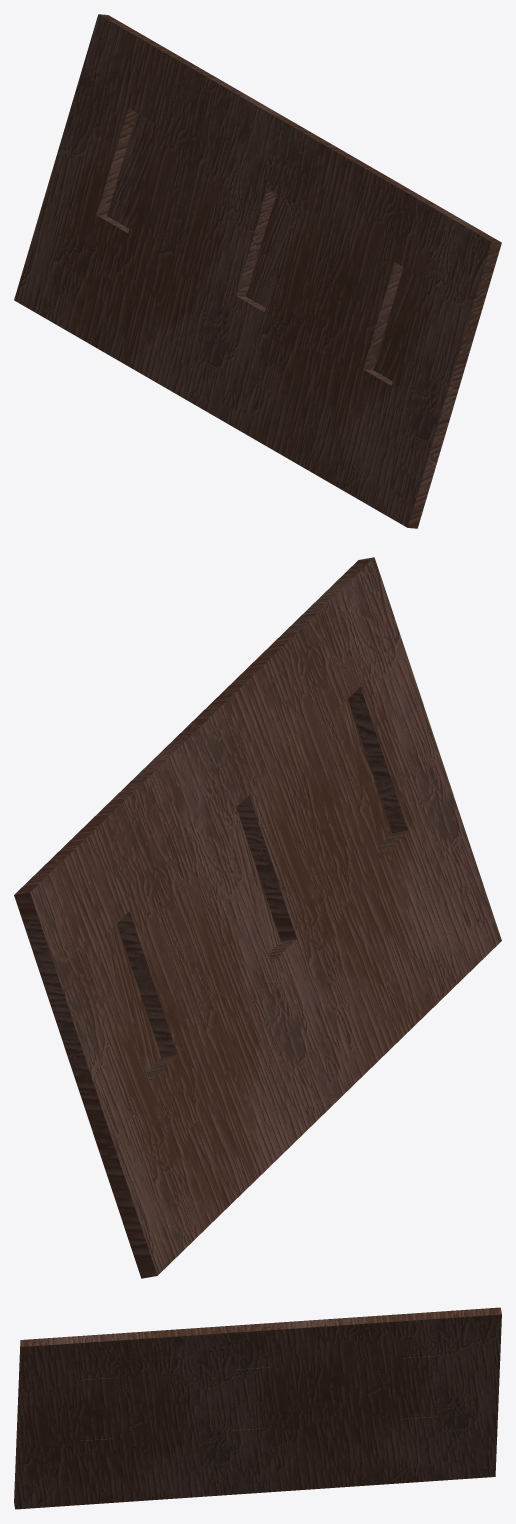
File: barricadelong.fbx
3 views of the same model, one above another, from view 1: azimuth 30°, elevation 25°; view 2: azimuth 150°, elevation 25°; view 3: azimuth 270°, elevation 25° (orthographic). The views are drawn at different scales.
Visible parts, largest first — view 1: Large_Barricade1:LargeBarricade; view 2: Large_Barricade1:LargeBarricade; view 3: Large_Barricade1:LargeBarricade.
Boxes of the visible parts, box(x1,y1,x2,y2) form: Large_Barricade1:LargeBarricade: box(14, 14, 501, 528); Large_Barricade1:LargeBarricade: box(14, 557, 501, 1278); Large_Barricade1:LargeBarricade: box(14, 1307, 501, 1509).
Size of the model in its own units: 0.8777 by 1.35 by 2.92.
Materials: 1 (1 with a texture image).
